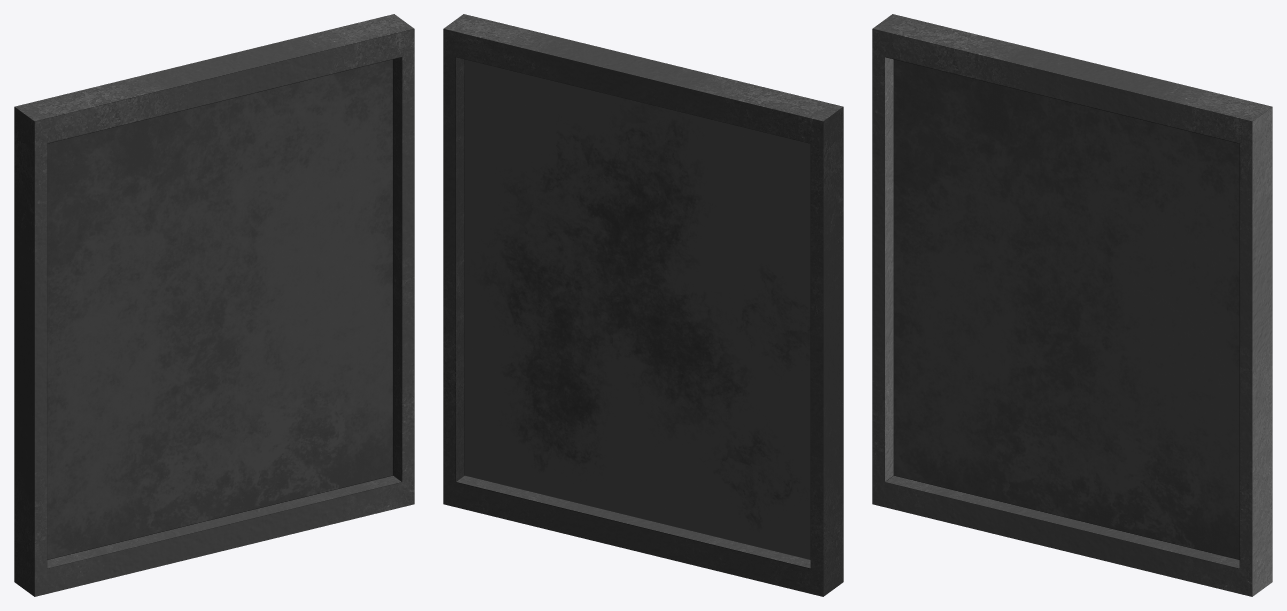
The model's file is Window.fbx.
The picture shows the model from 3 angles, left to right: view 1: azimuth 30°, elevation 25°; view 2: azimuth 150°, elevation 25°; view 3: azimuth 330°, elevation 25°; orthographic projection.
Parts seen in each view (by area): view 1: Slide_WINDOW; view 2: Slide_WINDOW; view 3: Slide_WINDOW.
Part boxes in pixels (box(x1,y1,x2,y2)): Slide_WINDOW: box(14, 14, 414, 596); Slide_WINDOW: box(443, 14, 843, 596); Slide_WINDOW: box(872, 14, 1272, 596).
Size of the model in its own units: 566 by 677 by 52.37.
Materials: 1 (1 with a texture image).
